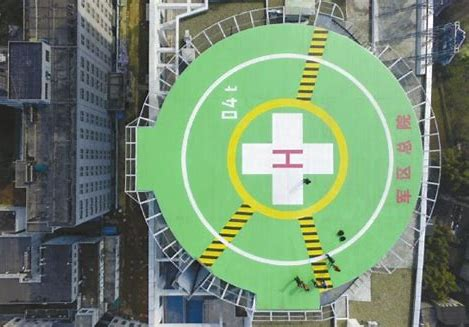H: (271, 149, 302, 168)
